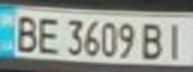0: (100, 19, 121, 58)
3: (60, 16, 84, 57)
6: (81, 17, 103, 57)
9: (115, 19, 142, 60)
B: (9, 11, 42, 54), (139, 19, 169, 61)
E: (33, 13, 63, 55)
I: (160, 19, 193, 60)
